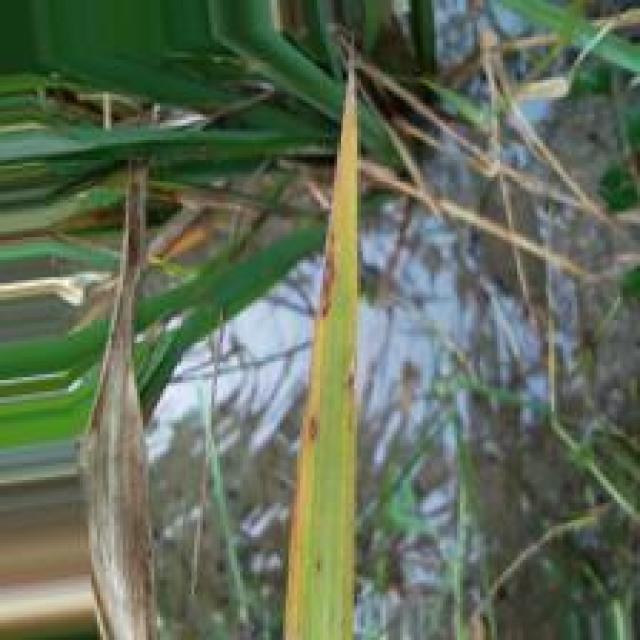Leaf_Blast: (283, 59, 358, 640)
